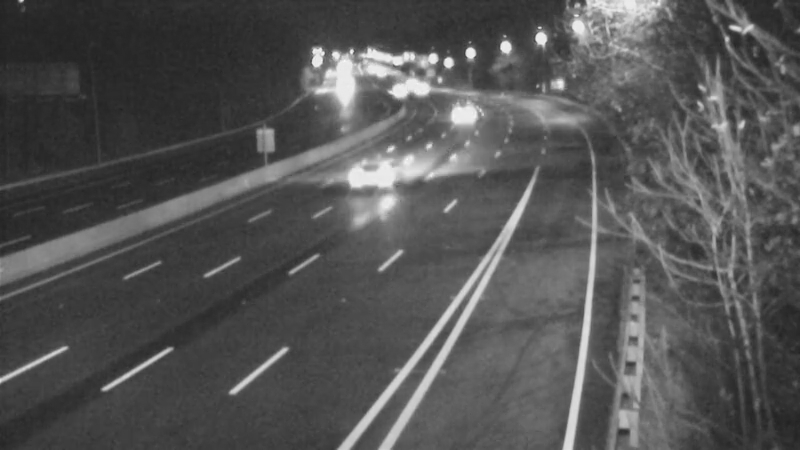vehicle: (331, 138, 411, 218), (383, 60, 433, 110), (391, 62, 441, 112), (373, 66, 423, 116), (439, 88, 489, 138), (321, 62, 371, 112)
